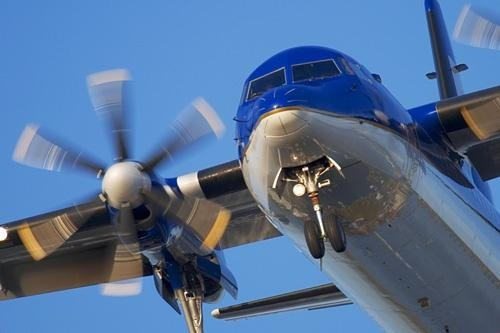aeroplane: (8, 3, 500, 333)
